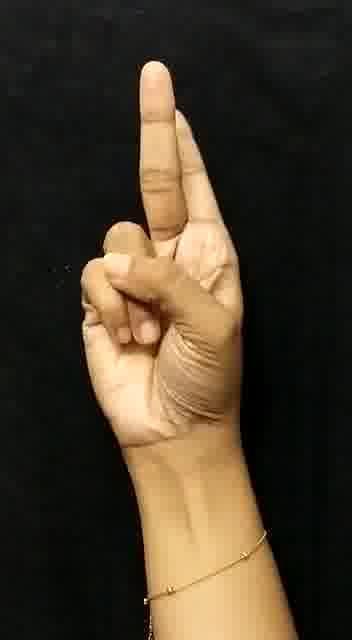kartarimukh: (66, 45, 250, 478)
